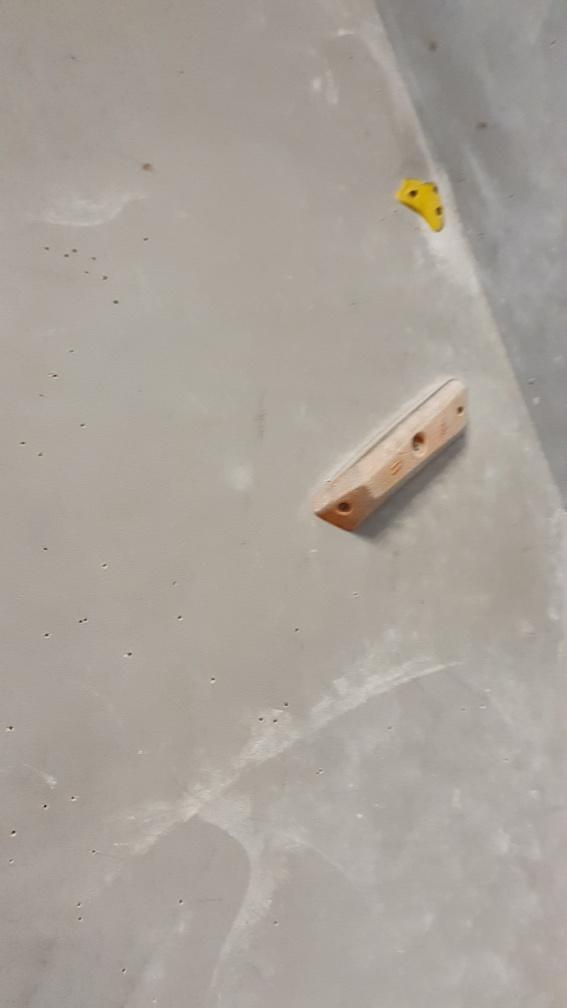Pinch: (305, 373, 473, 529)
